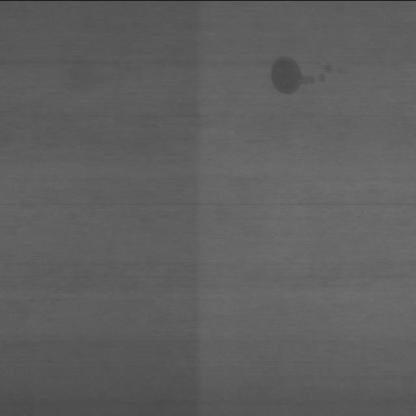oil_spot: (254, 47, 342, 98)
